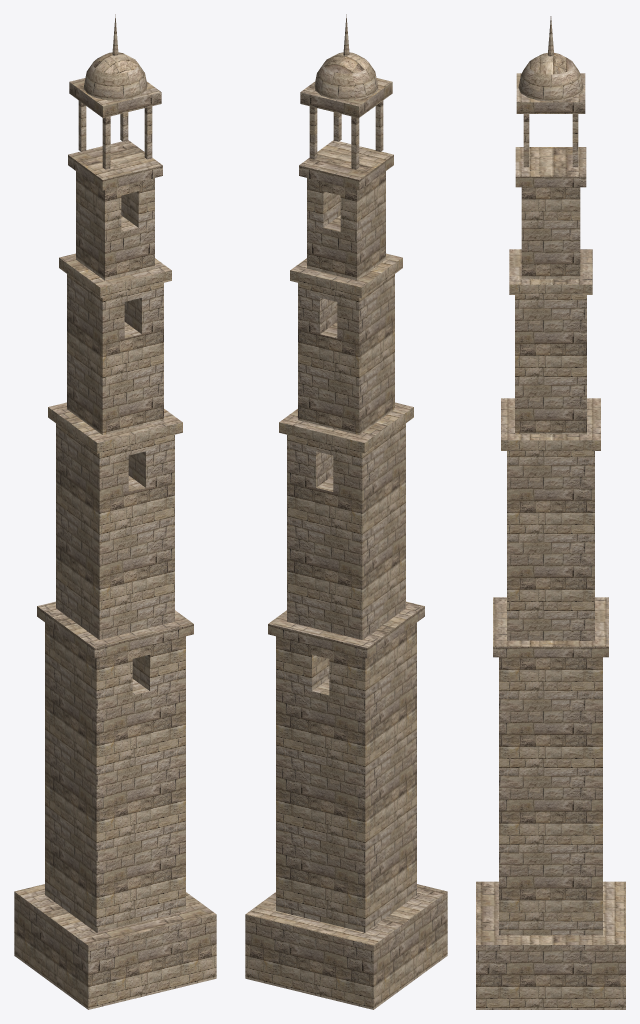
Rendered from round.glb.
3 renders of one model, left to right at view 1: azimuth 30°, elevation 25°; view 2: azimuth 150°, elevation 25°; view 3: azimuth 270°, elevation 25°, orthographic.
Parts seen in each view (by area): view 1: round; view 2: round; view 3: round.
Boxes of the visible parts, bbox=[...] form: round: bbox=[14, 14, 216, 1009]; round: bbox=[245, 14, 447, 1009]; round: bbox=[476, 16, 625, 1009].
Size of the model in its own units: 4.6 by 32.64 by 4.6.
1 material, 1 textured.
